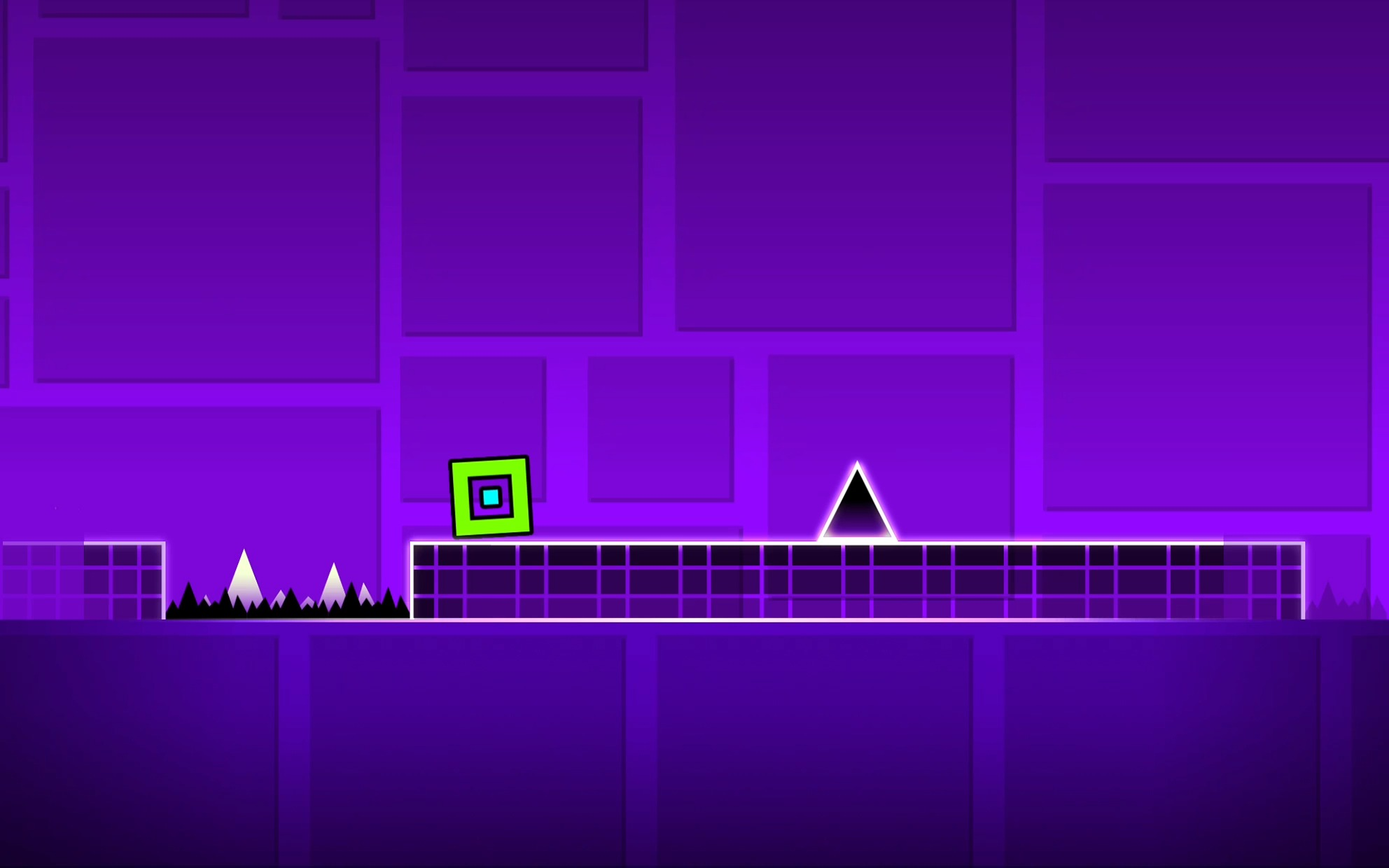Block2: (409, 540, 1317, 617), (1, 543, 165, 620)
Player: (447, 456, 531, 536)
Spike: (819, 462, 895, 538)
Spike3: (167, 581, 410, 622), (1306, 583, 1389, 618)
